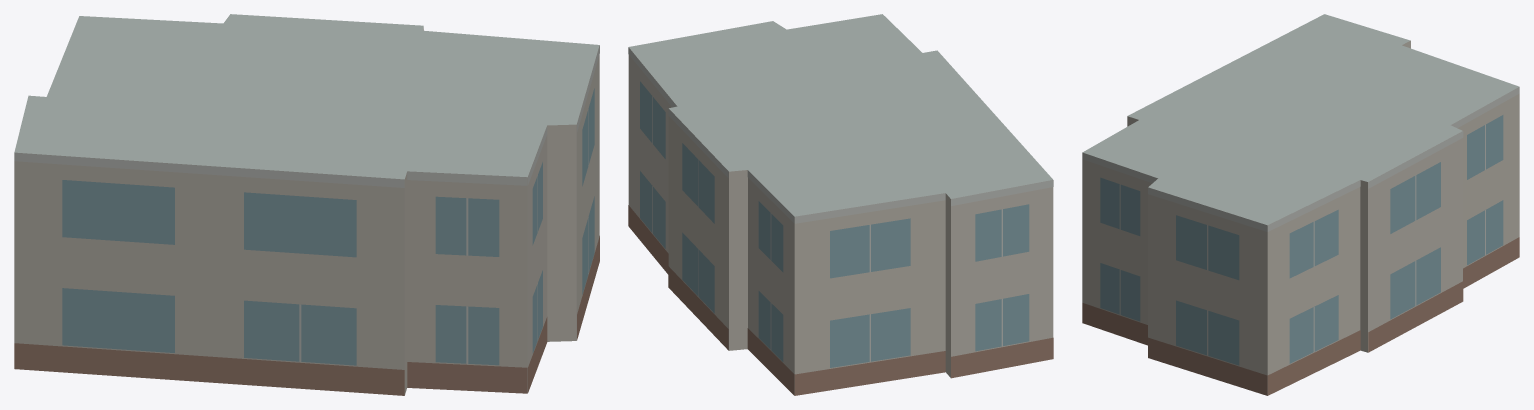
File: survey-upis-32695593.glb
3 views of the same model, side by side, from view 1: azimuth 30°, elevation 25°; view 2: azimuth 150°, elevation 25°; view 3: azimuth 270°, elevation 25° (orthographic). The views are drawn at different scales.
Parts seen in each view (by area): view 1: survey-upis-32695593.tmp; view 2: survey-upis-32695593.tmp; view 3: survey-upis-32695593.tmp.
Boxes of the visible parts, x1,y1,x2,y2 form: survey-upis-32695593.tmp: (14, 14, 599, 395); survey-upis-32695593.tmp: (628, 14, 1053, 395); survey-upis-32695593.tmp: (1082, 14, 1519, 395).
Bounding box in the file's own units: 16.21 × 6.1 × 14.18.
